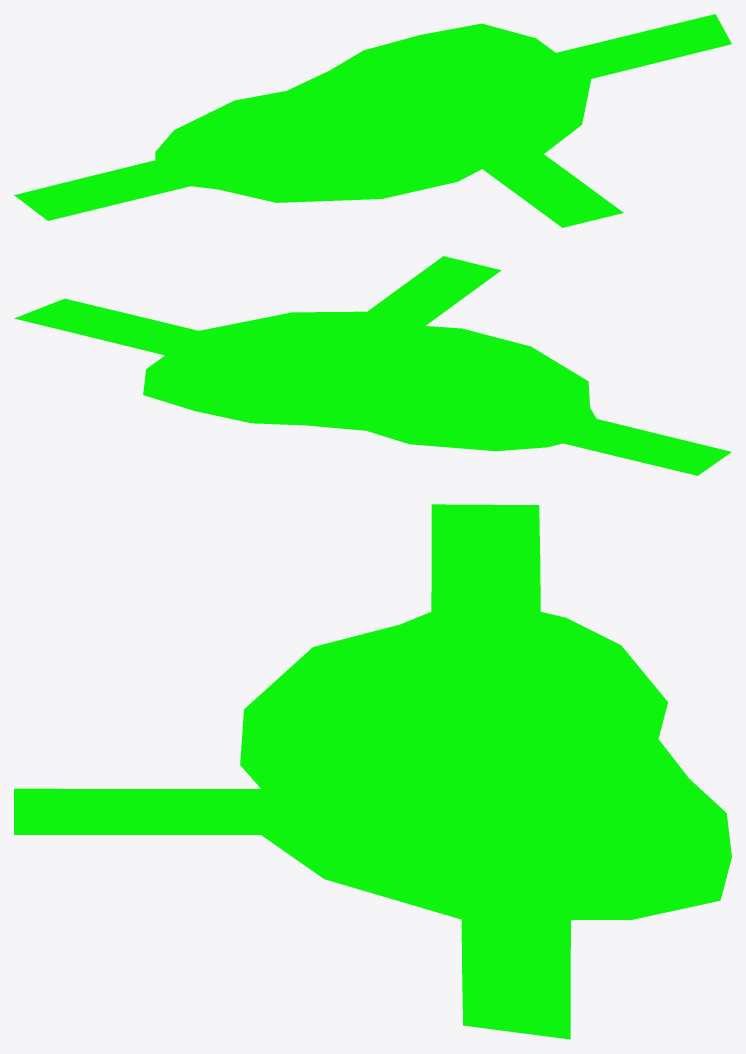
File: s02a_tb3-floor.glb
The picture shows the model from 3 angles, top to bottom: view 1: azimuth 30°, elevation 25°; view 2: azimuth 150°, elevation 25°; view 3: azimuth 270°, elevation 25°; orthographic projection. The views are drawn at different scales.
Visible parts, largest first — view 1: collision_floor-colonly; view 2: collision_floor-colonly; view 3: collision_floor-colonly.
Boxes of the visible parts, x1,y1,x2,y2 form: collision_floor-colonly: [14, 14, 731, 227]; collision_floor-colonly: [14, 256, 731, 475]; collision_floor-colonly: [14, 504, 731, 1039].
Size of the model in its own units: 69.49 by 0.1562 by 39.4.
